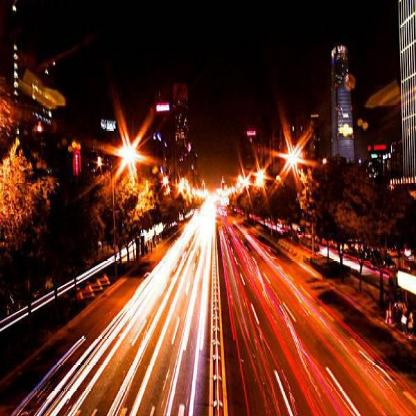other: (170, 172, 240, 214), (245, 160, 269, 198), (121, 142, 143, 183), (281, 138, 303, 178)
